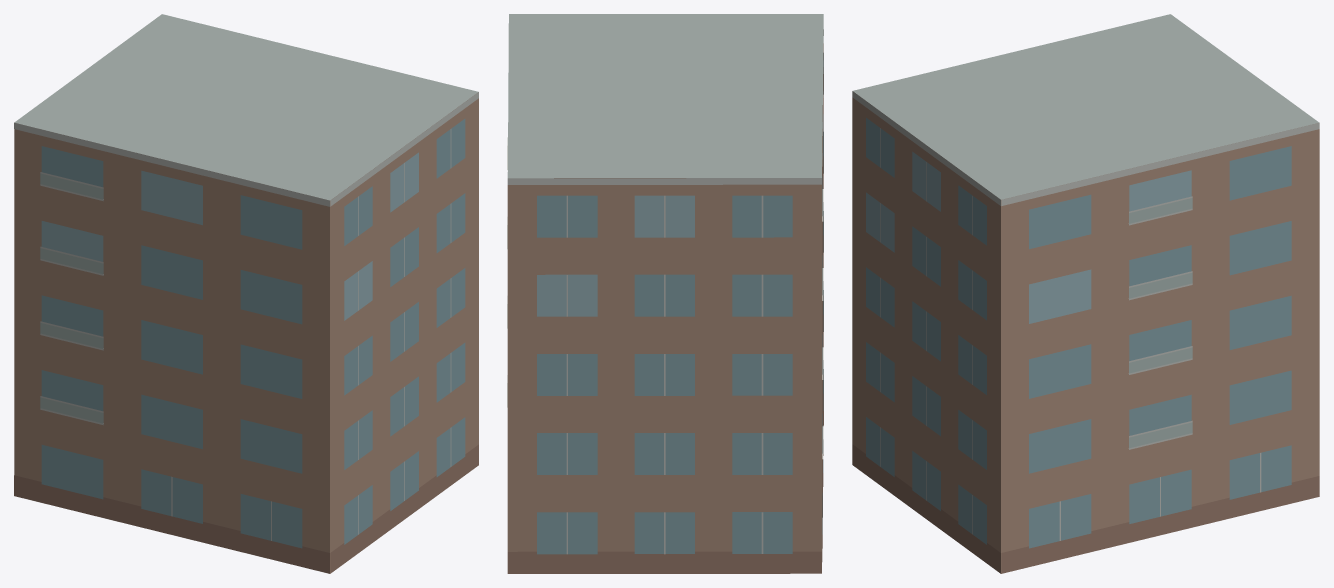
File: survey-upis-32693666.glb
The picture shows the model from 3 angles, left to right: view 1: azimuth 30°, elevation 25°; view 2: azimuth 150°, elevation 25°; view 3: azimuth 270°, elevation 25°; orthographic projection. The views are drawn at different scales.
Parts seen in each view (by area): view 1: survey-upis-32693666.tmp; view 2: survey-upis-32693666.tmp; view 3: survey-upis-32693666.tmp.
Boxes of the visible parts, bbox=[...] form: survey-upis-32693666.tmp: bbox=[14, 14, 478, 573]; survey-upis-32693666.tmp: bbox=[507, 14, 823, 573]; survey-upis-32693666.tmp: bbox=[852, 14, 1319, 573].
Bounding box in the file's own units: 15.14 × 14.2 × 16.08.
